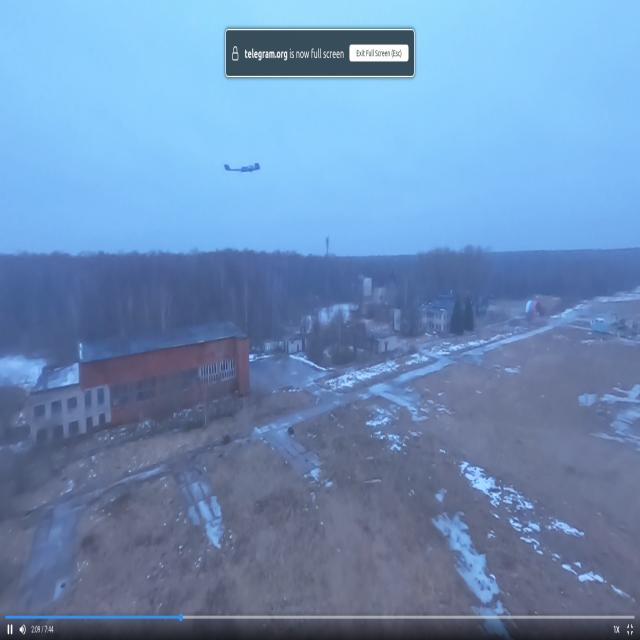planedrone: (221, 158, 263, 174)
